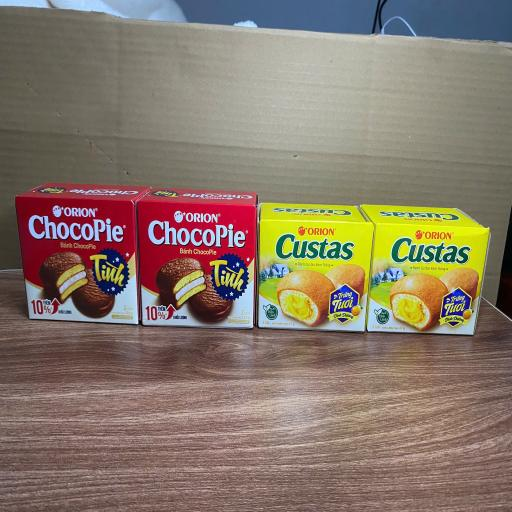chocopie: (15, 183, 152, 324), (136, 186, 258, 329)
custas: (360, 204, 491, 336), (257, 202, 375, 332)
